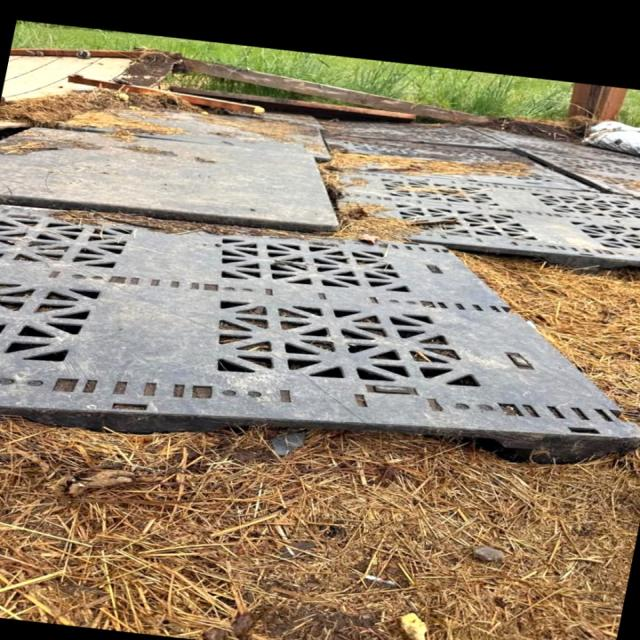non-igps: (0, 201, 638, 474), (0, 123, 346, 240), (324, 162, 639, 278), (507, 142, 639, 203)
